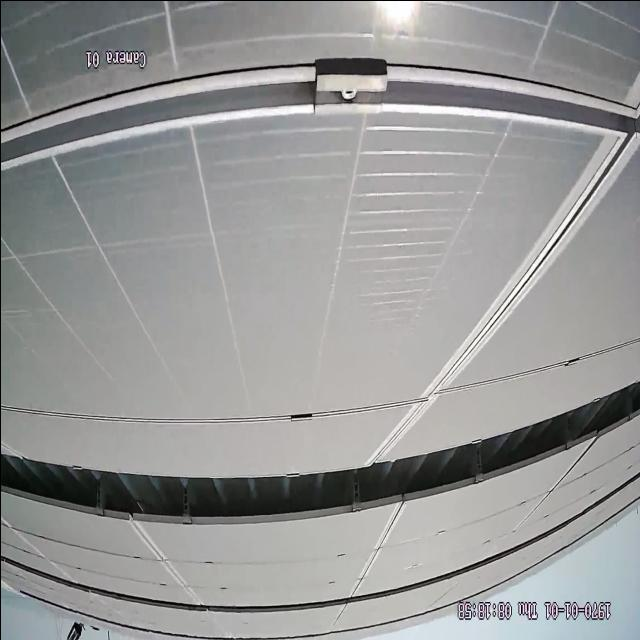interior panel: (1, 54, 635, 451), (141, 529, 205, 597), (345, 515, 401, 588)
outher panel: (3, 376, 640, 524)
